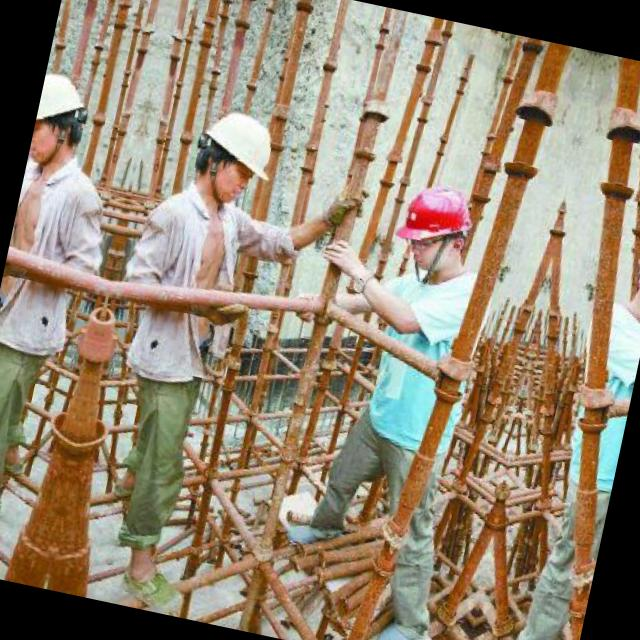helmet: (180, 94, 284, 216), (386, 162, 487, 284), (26, 61, 102, 178), (618, 212, 640, 324)
